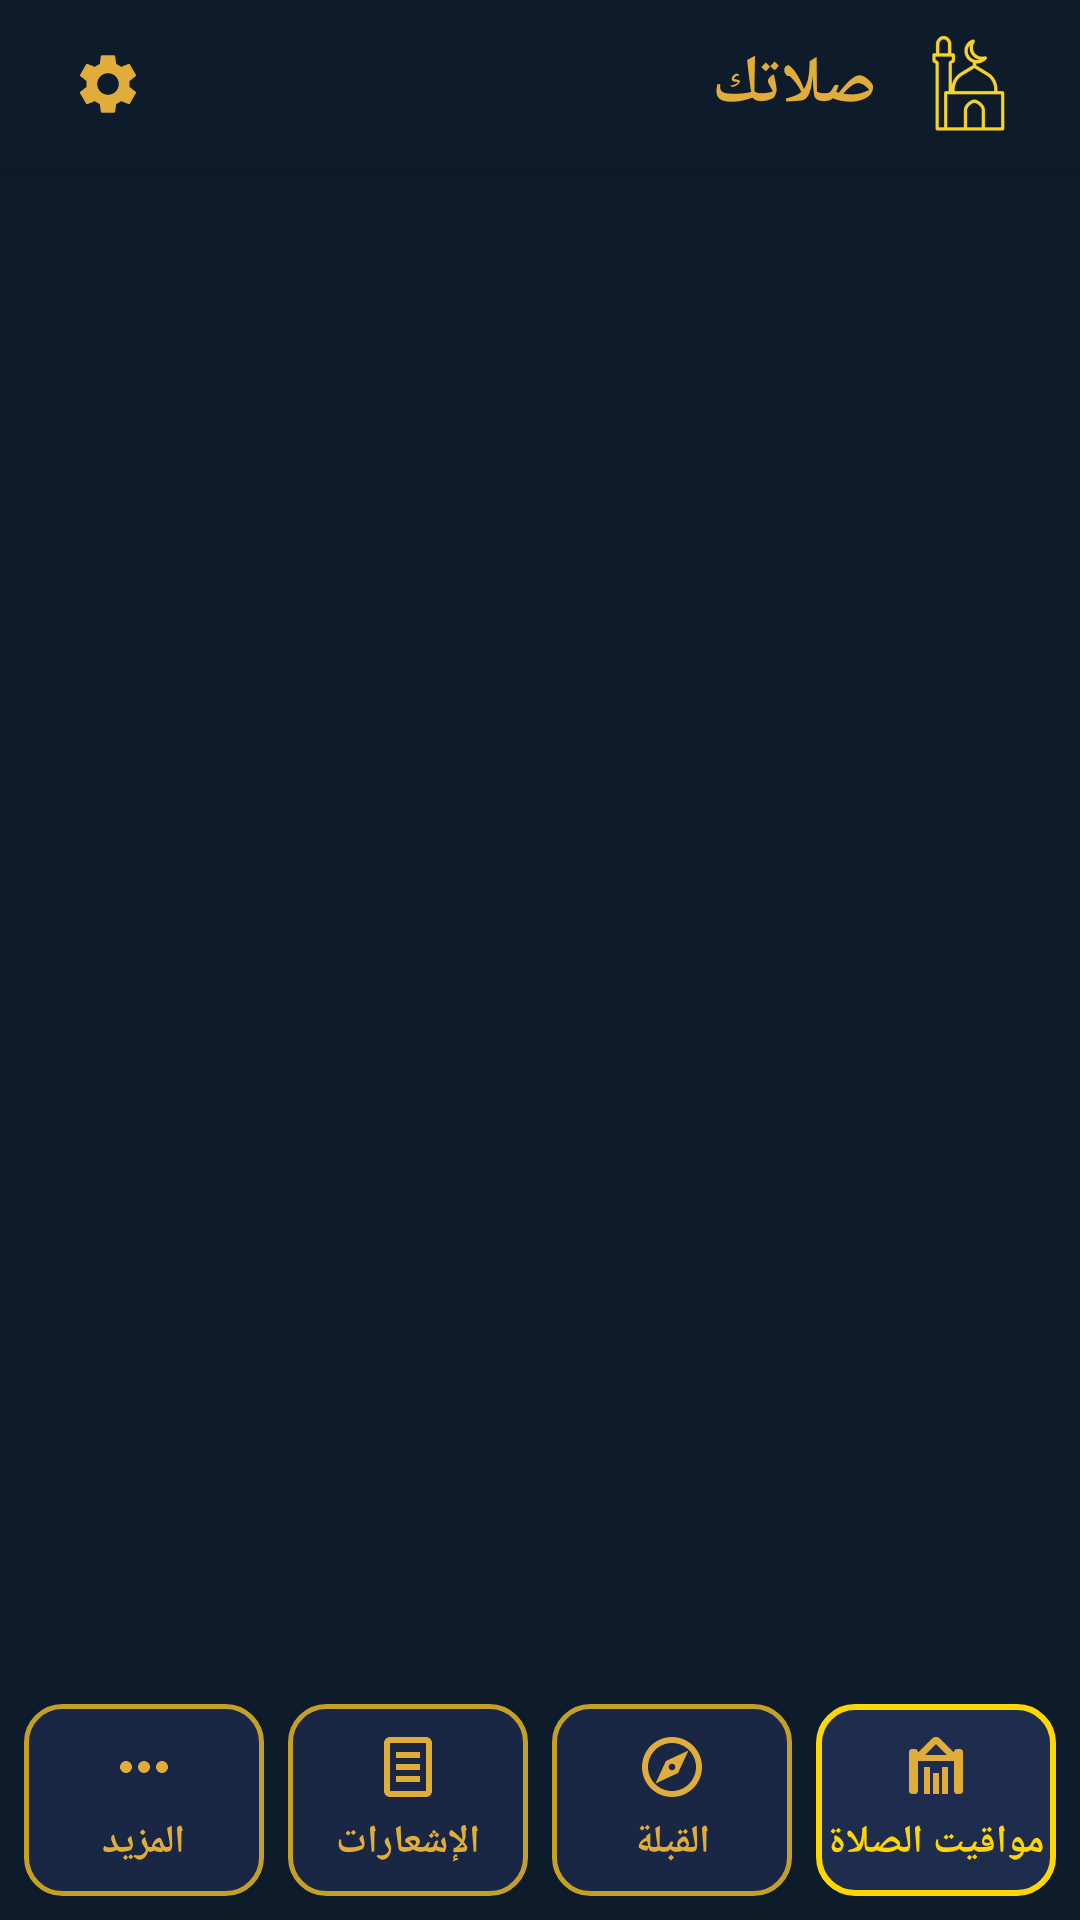

Icon bounding boxes for this 1080px x 1920px phone screenshot, format (x1, y1, x2, y2):
الإعدادات: (80, 55, 136, 113)
